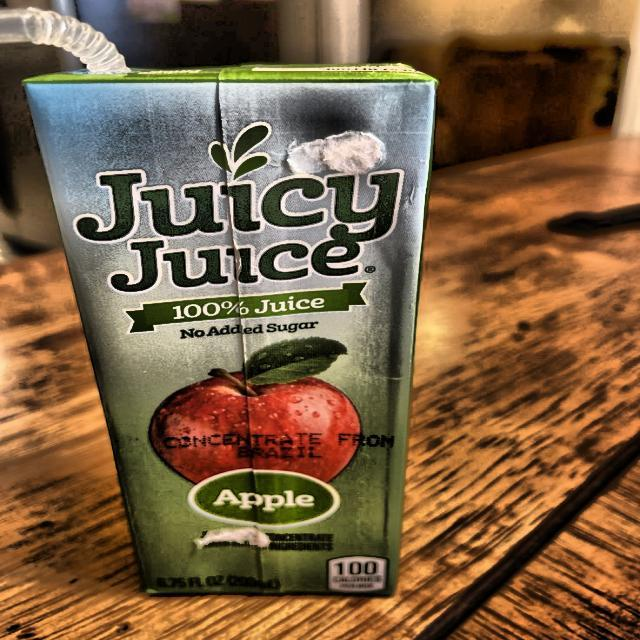cardboard: (21, 61, 438, 596)
